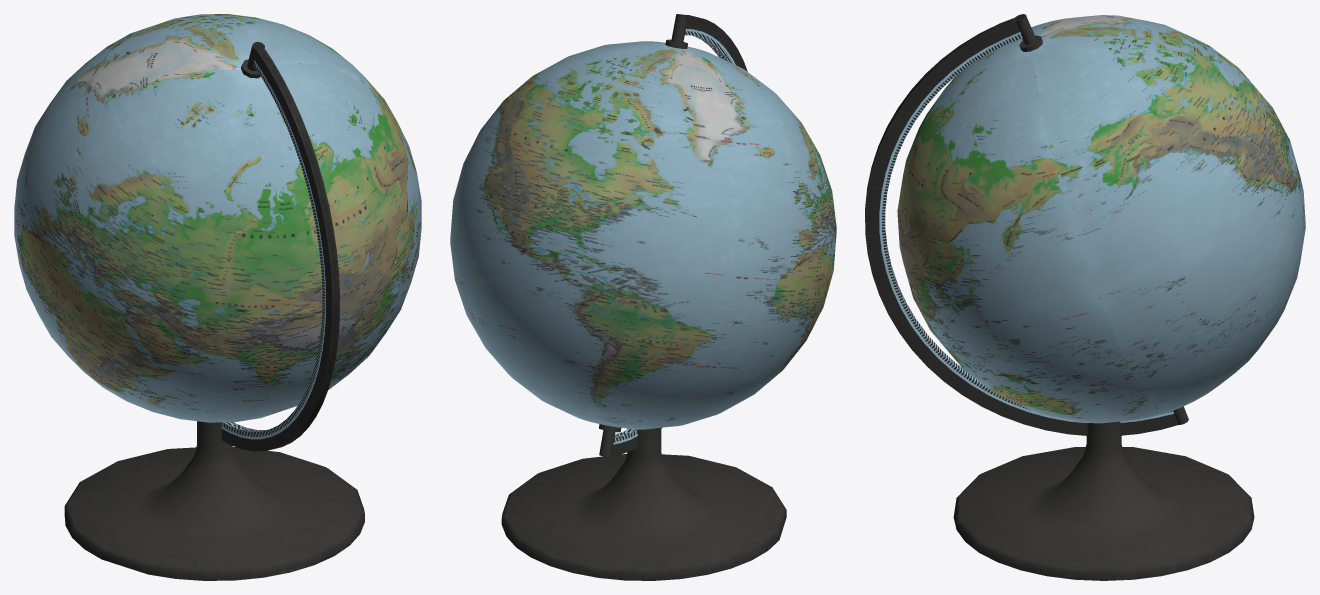
The model's file is SM_DeskGlobe_01.fbx.
The picture shows the model from 3 angles, left to right: view 1: azimuth 30°, elevation 25°; view 2: azimuth 150°, elevation 25°; view 3: azimuth 270°, elevation 25°; orthographic projection. The views are drawn at different scales.
Visible parts, largest first — view 1: SM_DeskGlobe_01_LOD0; view 2: SM_DeskGlobe_01_LOD0; view 3: SM_DeskGlobe_01_LOD0.
Boxes of the visible parts, x1=… form: SM_DeskGlobe_01_LOD0: x1=14, y1=14, x2=421, y2=580; SM_DeskGlobe_01_LOD0: x1=450, y1=14, x2=836, y2=580; SM_DeskGlobe_01_LOD0: x1=865, y1=14, x2=1305, y2=580.
Bounding box in the file's own units: 28.86 × 31.11 × 39.16.
